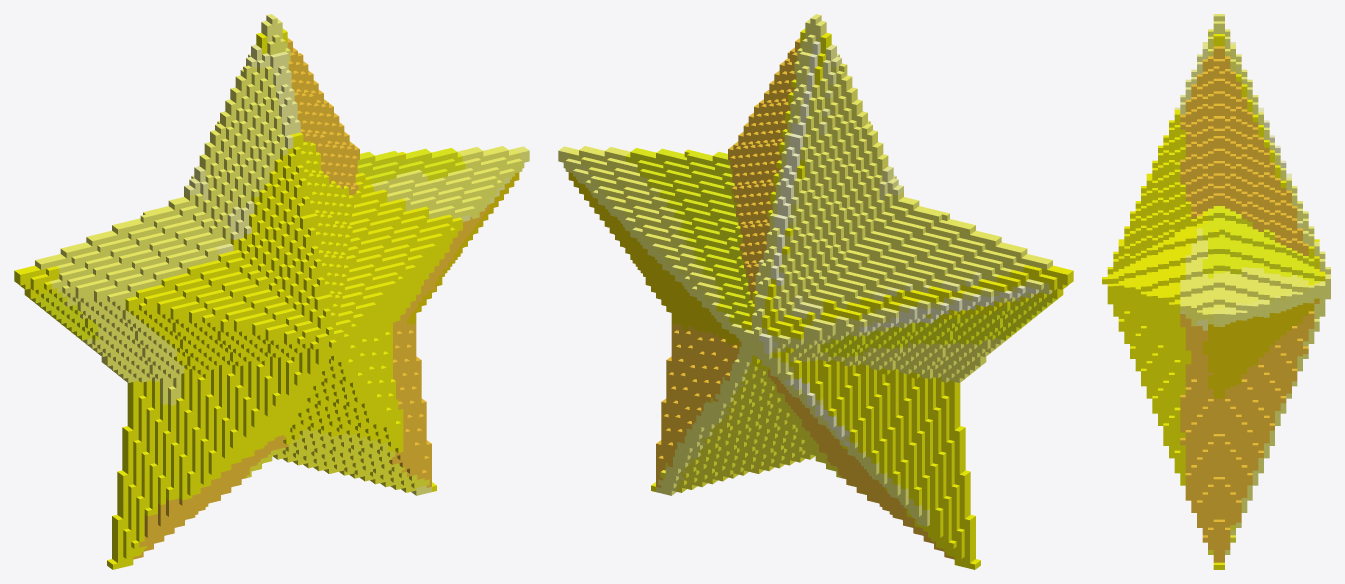
The model's file is star.FBX.
3 views of the same model, side by side, from view 1: azimuth 30°, elevation 25°; view 2: azimuth 150°, elevation 25°; view 3: azimuth 270°, elevation 25° (orthographic). The views are drawn at different scales.
Parts seen in each view (by area): view 1: default010; view 2: default010; view 3: default010.
Boxes of the visible parts, left/top/right/bottom form: default010: left=14, top=14, right=529, bottom=569; default010: left=558, top=14, right=1073, bottom=569; default010: left=1102, top=14, right=1330, bottom=569.
Size of the model in its own units: 895 by 859 by 371.
